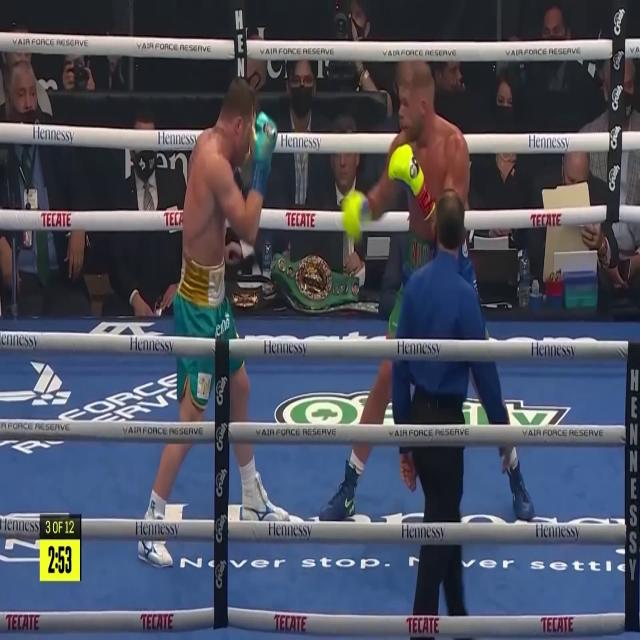boxer_1: (390, 59, 470, 204), (368, 164, 401, 218), (409, 193, 436, 240)
boxer_2: (182, 76, 263, 266)
gloves_1: (387, 142, 436, 220), (342, 188, 369, 241)
gloves_2: (252, 110, 277, 195)
